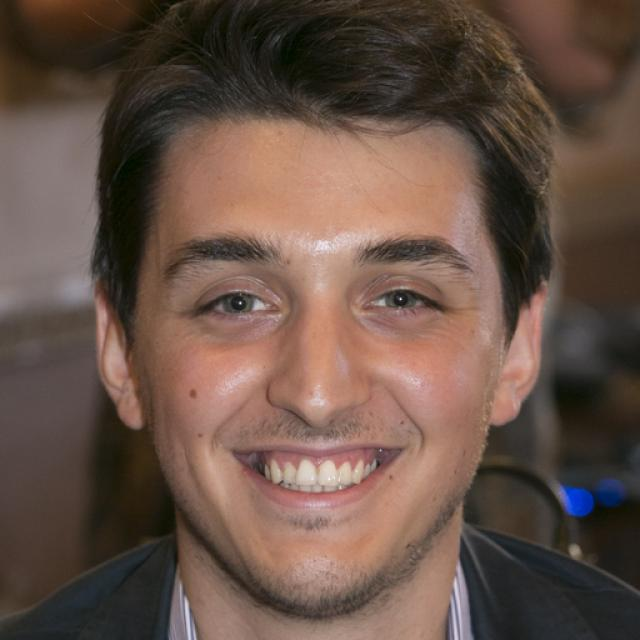Dark Circle: (198, 312, 286, 345), (355, 308, 442, 338)
